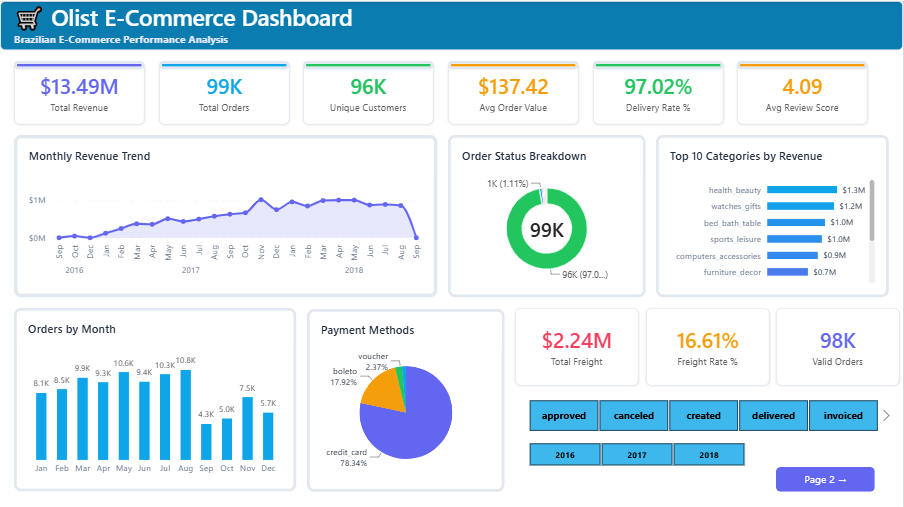

This screenshot's page, from the dashboard's own definition file:
{"tool":"powerbi","page":{"name":"Sales Overview","canvas":[1280,720],"ordinal":0},"visuals":[{"type":"shape","box":[0,0,1280,70],"z":0},{"type":"textbox","box":[19.7,0,700.8,64.4],"z":1000},{"type":"textbox","box":[20,44,700,20],"z":2000},{"type":"card","fields":{"Values":["Orders.Total Revenue"]},"box":[20,85,185,90],"z":3000},{"type":"card","fields":{"Values":["Orders.Avg Order Value"]},"box":[635,85,185,90],"z":4000},{"type":"card","fields":{"Values":["Orders.Unique Customers"]},"box":[430,85,185,90],"z":5000},{"type":"card","fields":{"Values":["Orders.Total Orders"]},"box":[225,85,185,90],"z":6000},{"type":"card","fields":{"Values":["Orders.Delivery Rate %"]},"box":[840,85,185,90],"z":7000},{"type":"card","fields":{"Values":["Orders.Avg Review Score"]},"box":[1045,85,185,90],"z":8000},{"type":"shape","box":[20,85,185,12],"z":9000},{"type":"shape","box":[225,85,185,12],"z":10000},{"type":"shape","box":[430,85,185,12],"z":11000},{"type":"shape","box":[635,85,185,12],"z":12000},{"type":"shape","box":[840,85,185,12],"z":13000},{"type":"shape","box":[1045,85,185,12],"z":14000},{"type":"lineChart","title":"Monthly Revenue Trend","fields":{"Category":["DateTable.Year","DateTable.Month"],"Y":["Orders.Total Revenue"]},"box":[20,190,600,230],"z":15000},{"type":"donutChart","title":"Order Status Breakdown","fields":{"Category":["Orders.order_status"],"Y":["Orders.Total Orders"]},"box":[634.5,190,280,230],"z":16000},{"type":"clusteredBarChart","title":"Top 10 Categories by Revenue","fields":{"Category":["Products.product_category_name_english"],"Y":["Orders.Total Revenue"]},"box":[930,190,330,230],"z":17000},{"type":"clusteredColumnChart","title":"Orders by Month","fields":{"Category":["DateTable.Month"],"Y":["Orders.Total Orders"]},"box":[20.3,434.4,399.5,260.1],"z":18000},{"type":"pieChart","title":"Payment Methods","fields":{"Category":["Payments.payment_type"],"Y":["Orders.Total Payment"]},"box":[434.4,435.9,280.4,258.6],"z":19000},{"type":"card","fields":{"Values":["Orders.Total Freight"]},"box":[730,435.2,175,110],"z":20000},{"type":"card","fields":{"Values":["Orders.Valid Orders"]},"box":[1100,435.2,175,110],"z":21000},{"type":"card","fields":{"Values":["Orders.Freight Rate %"]},"box":[915,435.2,175,110],"z":22000},{"type":"slicer","fields":{"Values":["DateTable.Year"]},"box":[729.9,625,344.4,35.4],"z":23000},{"type":"slicer","fields":{"Values":["Orders.order_status"]},"box":[729.9,564.1,532.9,46.8],"z":24000},{"type":"actionButton","box":[1100,660,140,35],"z":25000}]}

Visuals, with their boxes in screenshot pixels (x1, y1, x2, y2), scaled from the page's 1280x720 canvas onto the 904x507 screenshot:
shape: rect(0, 0, 903, 49)
textbox: rect(14, 0, 509, 45)
textbox: rect(14, 31, 509, 45)
card - Orders.Total Revenue: rect(14, 60, 145, 123)
card - Orders.Avg Order Value: rect(448, 60, 579, 123)
card - Orders.Unique Customers: rect(304, 60, 434, 123)
card - Orders.Total Orders: rect(159, 60, 290, 123)
card - Orders.Delivery Rate %: rect(593, 60, 724, 123)
card - Orders.Avg Review Score: rect(738, 60, 869, 123)
shape: rect(14, 60, 145, 68)
shape: rect(159, 60, 290, 68)
shape: rect(304, 60, 434, 68)
shape: rect(448, 60, 579, 68)
shape: rect(593, 60, 724, 68)
shape: rect(738, 60, 869, 68)
"Monthly Revenue Trend" lineChart: rect(14, 134, 438, 296)
"Order Status Breakdown" donutChart: rect(448, 134, 646, 296)
"Top 10 Categories by Revenue" clusteredBarChart: rect(657, 134, 890, 296)
"Orders by Month" clusteredColumnChart: rect(14, 306, 296, 489)
"Payment Methods" pieChart: rect(307, 307, 505, 489)
card - Orders.Total Freight: rect(516, 306, 639, 384)
card - Orders.Valid Orders: rect(777, 306, 900, 384)
card - Orders.Freight Rate %: rect(646, 306, 770, 384)
slicer - DateTable.Year: rect(515, 440, 759, 465)
slicer - Orders.order_status: rect(515, 397, 892, 430)
actionButton: rect(777, 465, 876, 489)
